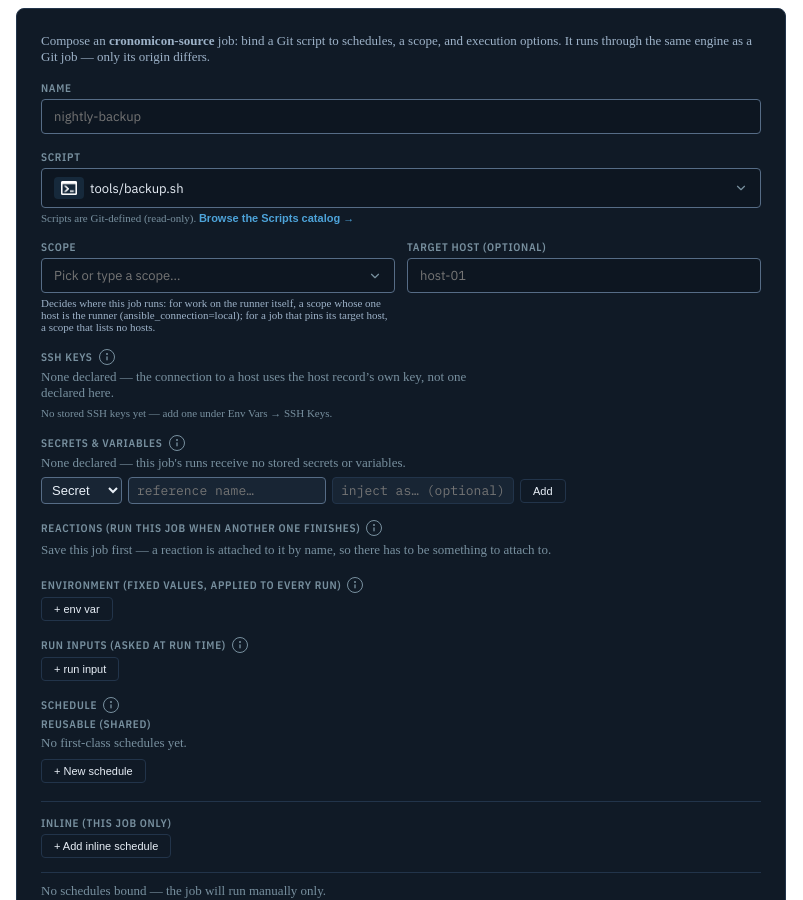
Test: JobComposer — scope is a required choice (AF-1) › offers no 'No scope' option, even to an unrestricted composer
Click the dropdown labelled "scope".
click(208, 276)  # box top-left (54, 267), bottom-right (362, 284)
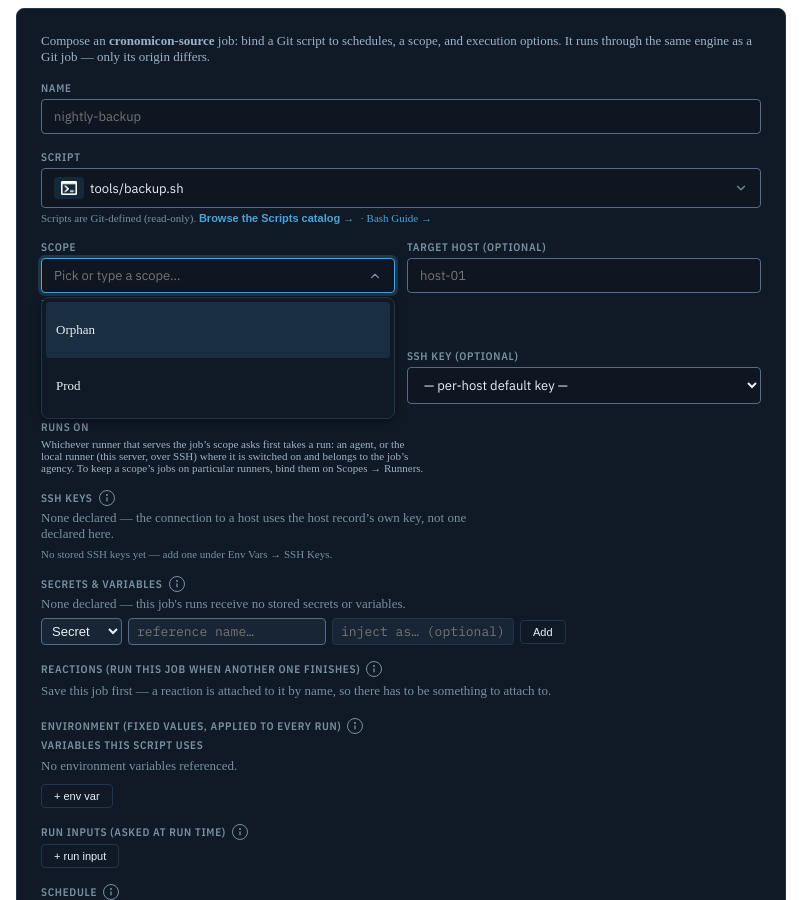
Check: the text "a scope whose one host is the runner" is shown, box top-left (41, 297), bottom-right (388, 333)
Check: the option "Prod" is shown, box top-left (56, 378), bottom-right (81, 393)
